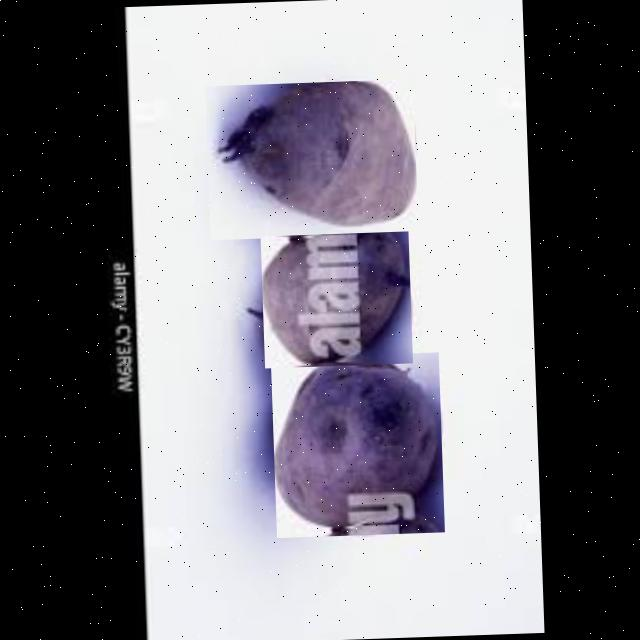Defected potato: (204, 78, 417, 240), (270, 352, 443, 538), (259, 231, 412, 368)
